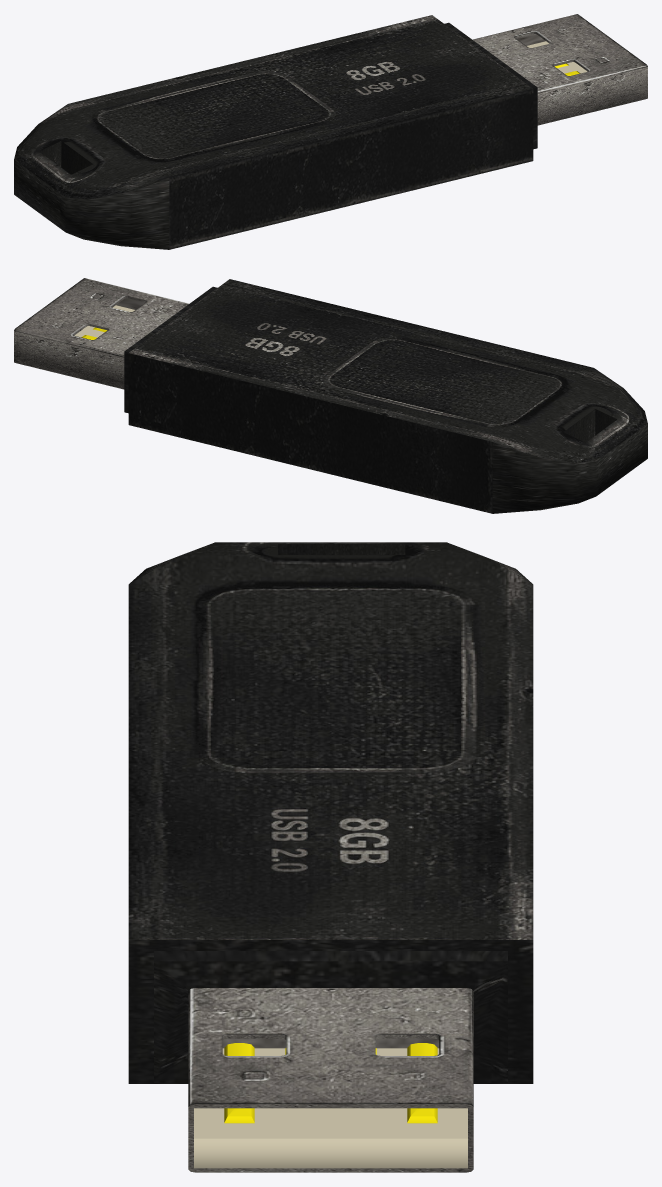
Rendered from usb_stick__psx_prop.glb.
The picture shows the model from 3 angles, top to bottom: view 1: azimuth 30°, elevation 25°; view 2: azimuth 150°, elevation 25°; view 3: azimuth 270°, elevation 25°; orthographic projection. The views are drawn at different scales.
Visible parts, largest first — view 1: Cube_0; view 2: Cube_0; view 3: Cube_0.
Part boxes in pixels (x1,y1,x2,y2): Cube_0: (14,14,647,249); Cube_0: (14,278,647,513); Cube_0: (128,542,533,1172).
Size of the model in its own units: 2.97 by 0.3568 by 0.91.
Materials: 4 (2 with a texture image).
